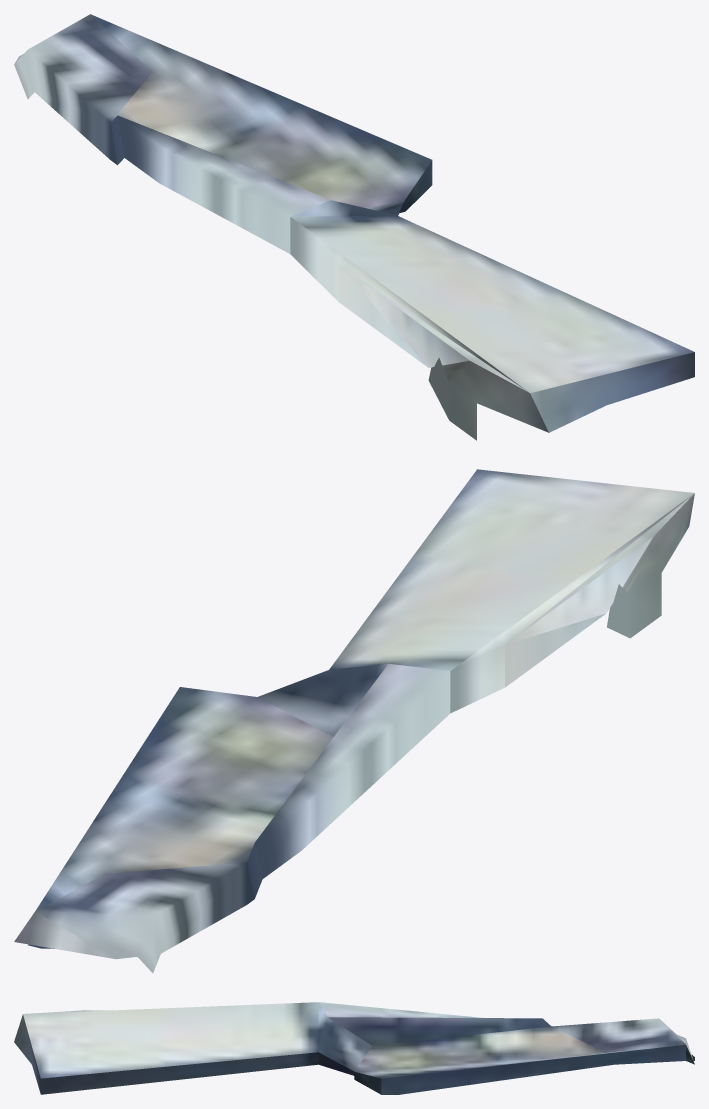
The picture shows the model from 3 angles, top to bottom: view 1: azimuth 30°, elevation 25°; view 2: azimuth 150°, elevation 25°; view 3: azimuth 270°, elevation 25°; orthographic projection. The views are drawn at different scales.
Visible parts, largest first — view 1: 3043627270436140567_0; view 2: 3043627270436140567_0; view 3: 3043627270436140567_0.
Boxes of the visible parts, box(x1,y1,x2,y2) form: 3043627270436140567_0: box(14, 14, 694, 440); 3043627270436140567_0: box(14, 469, 694, 973); 3043627270436140567_0: box(14, 1002, 694, 1094).
Bounding box in the file's own units: 4.91 × 2.16 × 23.45.
1 material, 1 textured.
